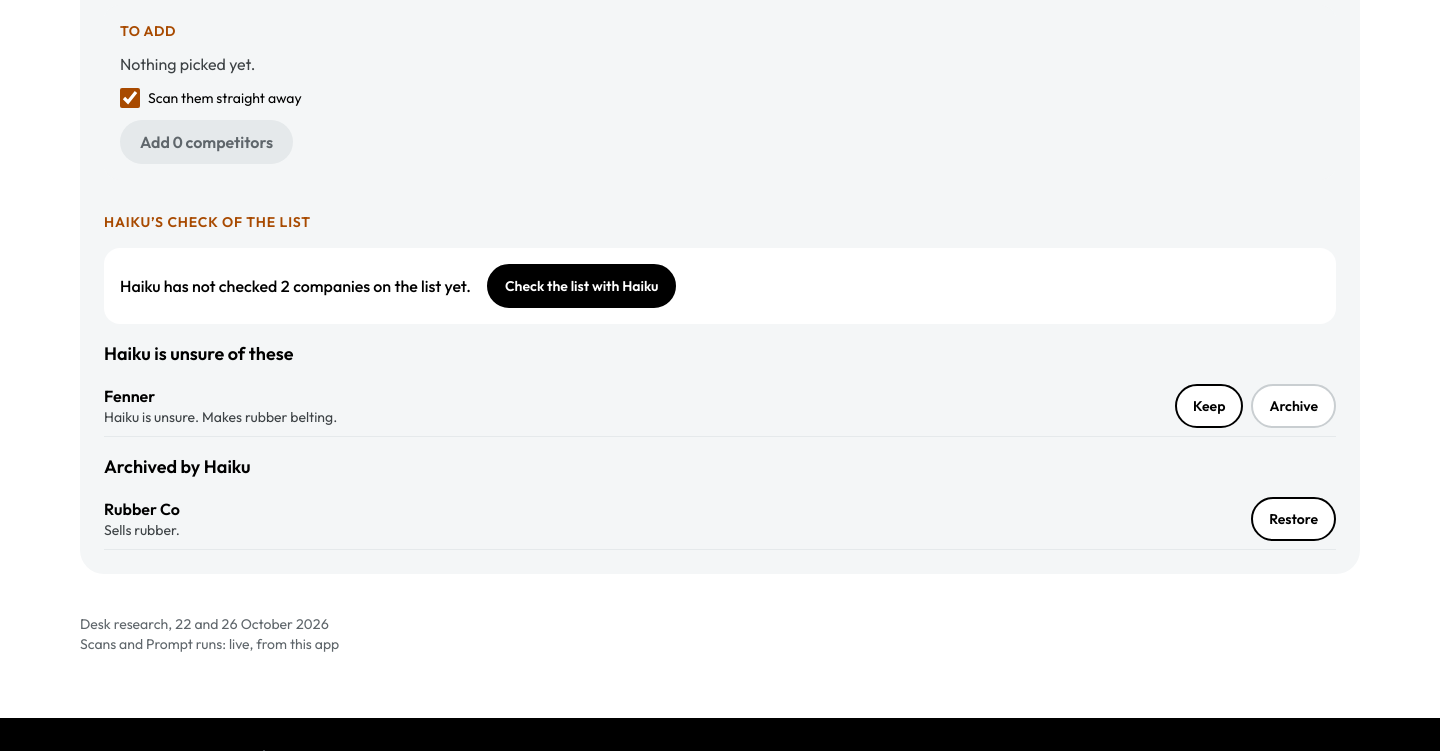
Test case: the upkeep of the list › keeps, archives and restores a company, and says so
(page scrolled)
Click the button "Keep".
click(1209, 406)  # box [1175,384,1243,428]
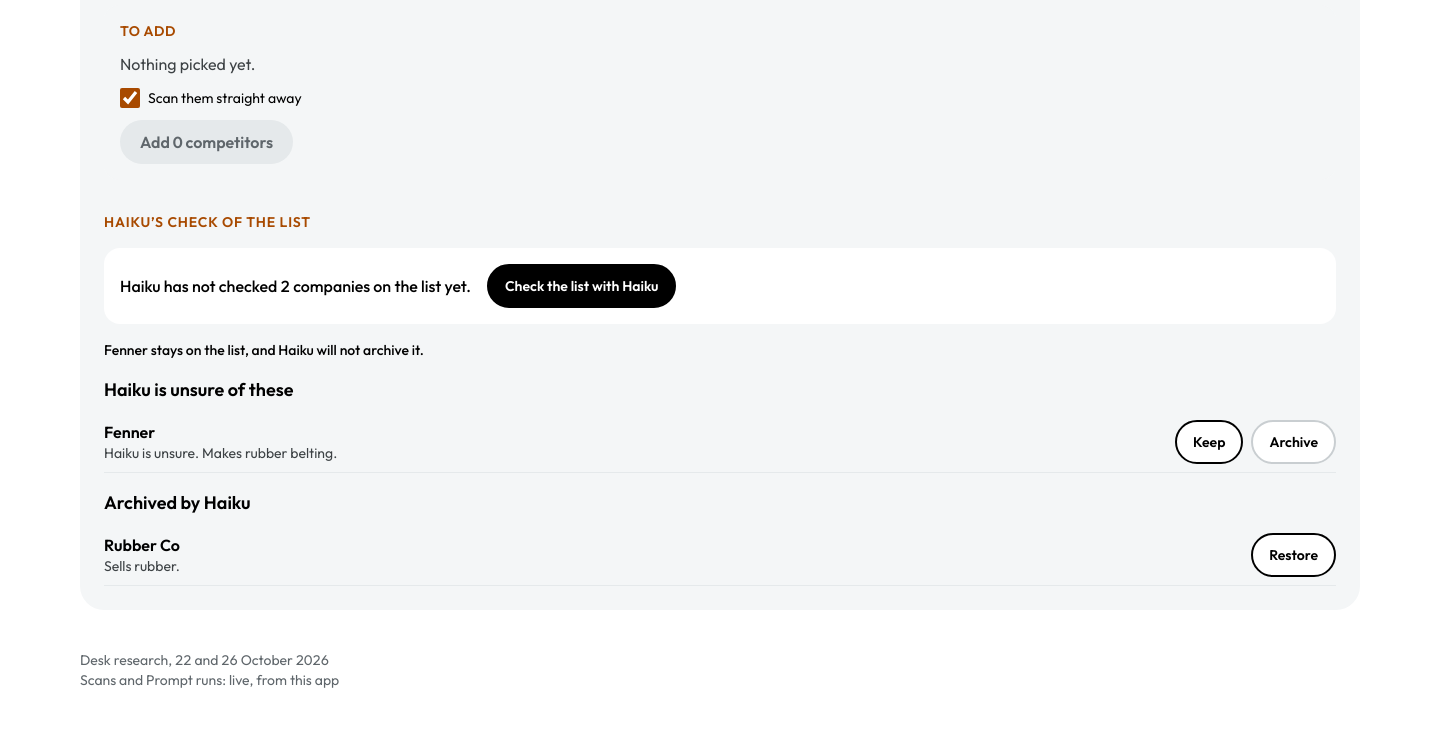
Expected: the element that starts with "Haiku’s check of the list" shows "Fenner stays on the list, and Haiku will not archive it.", [104,341,424,359]
Click the button "Archive".
click(1294, 442)  # box [1251,420,1336,464]
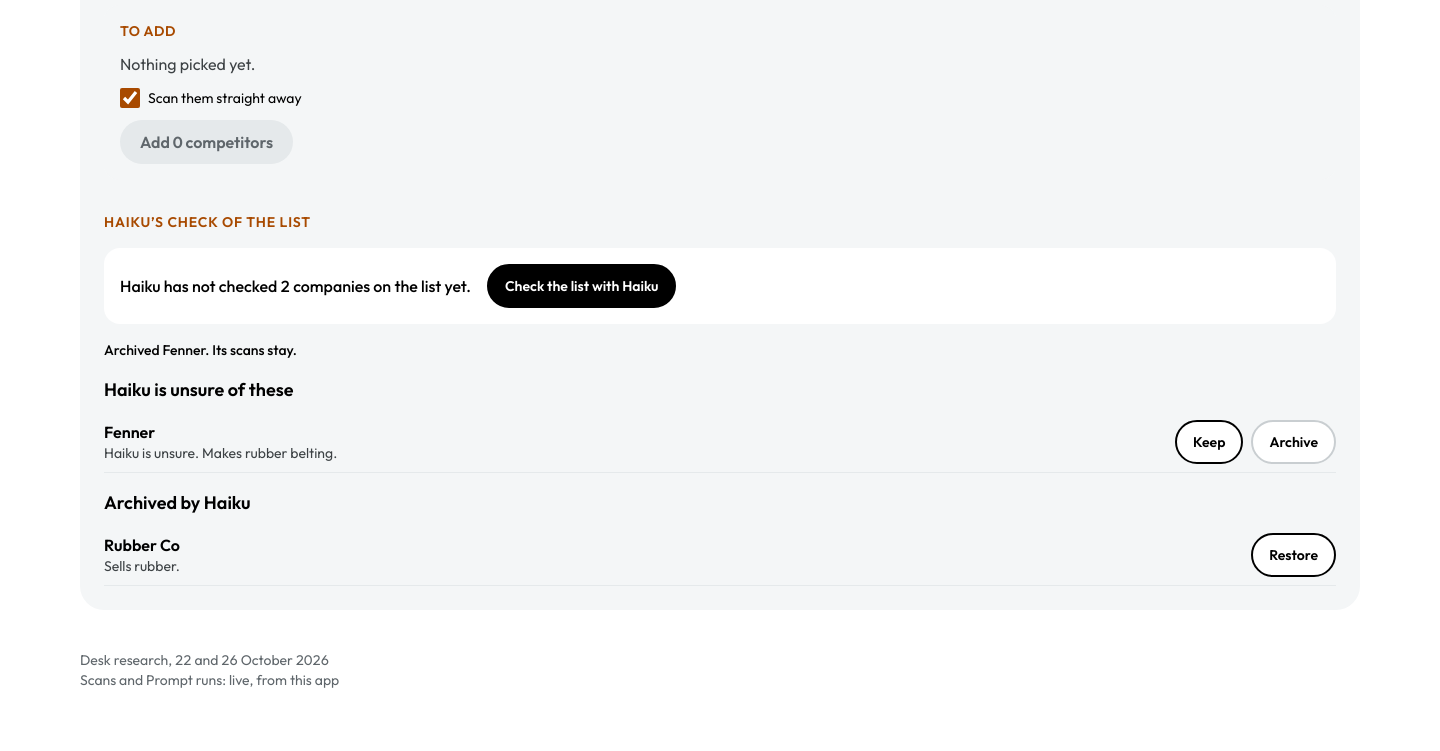
Expected: the element that starts with "Haiku’s check of the list" shows "Archived Fenner. Its scans stay.", [104,341,297,359]
Click the button "Restore".
click(1294, 555)  # box [1251,533,1336,577]
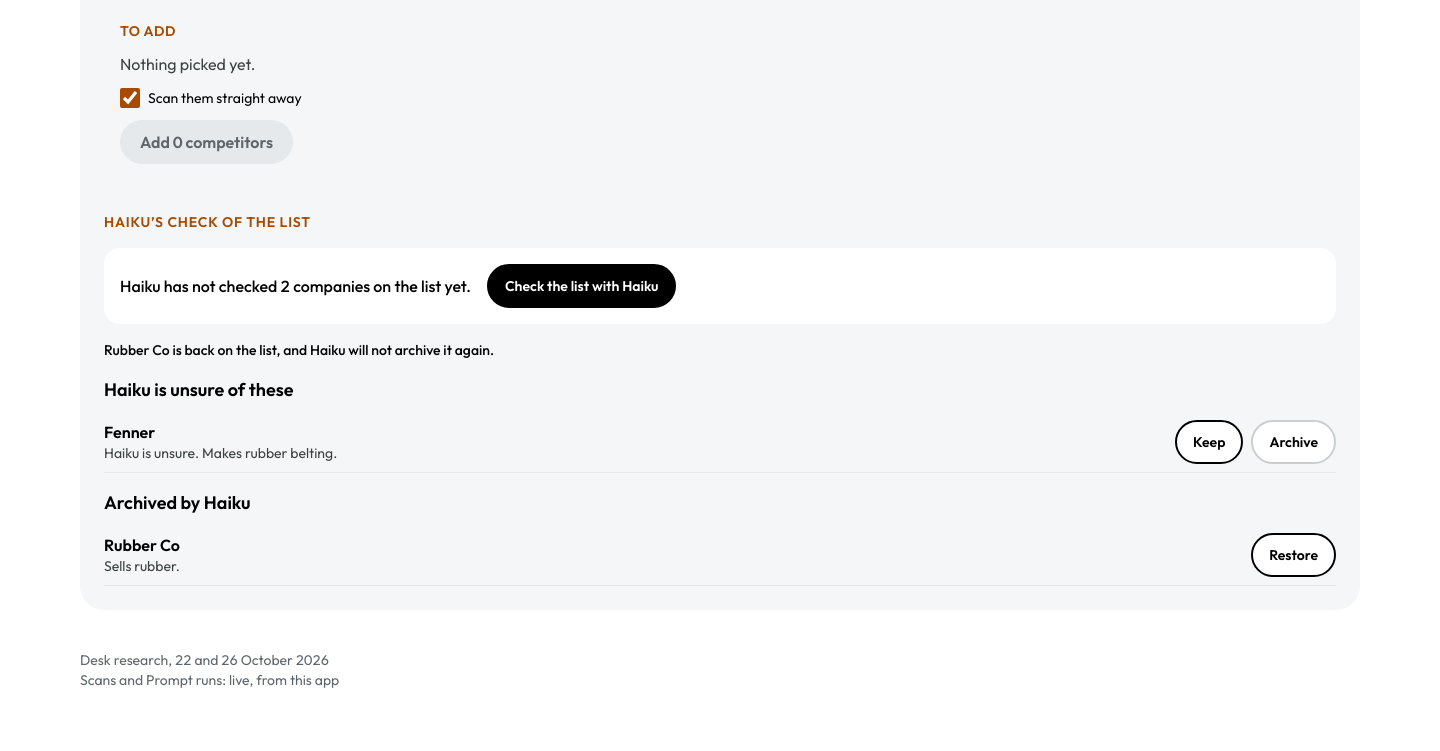
Expected: the element that starts with "Haiku’s check of the list" shows "Rubber Co is back on the list, and Haiku will not archive it again.", [104,341,494,359]
